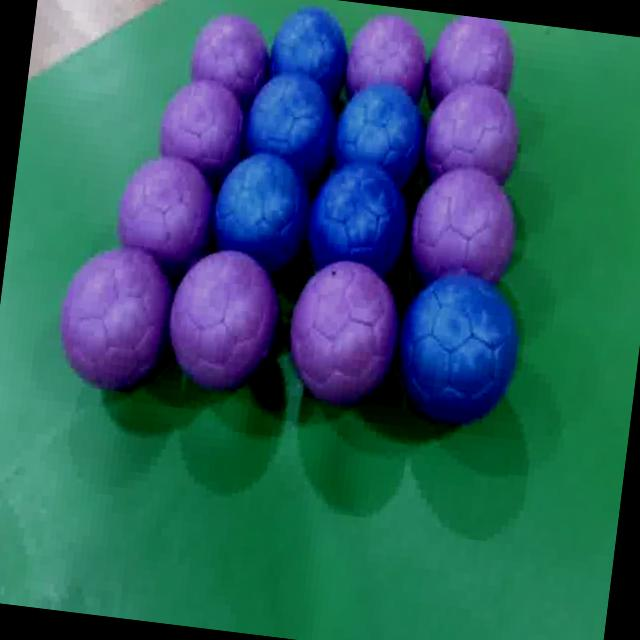blue_ball: (392, 266, 524, 430), (304, 157, 414, 274), (210, 148, 314, 267), (244, 65, 338, 176), (332, 80, 423, 174), (267, 2, 352, 102)
purple_ball: (161, 242, 287, 403), (281, 255, 406, 412), (53, 241, 175, 396), (408, 163, 522, 292), (418, 78, 525, 195), (114, 153, 216, 264), (424, 12, 518, 119), (156, 74, 248, 176), (344, 8, 430, 110), (187, 10, 275, 107)
